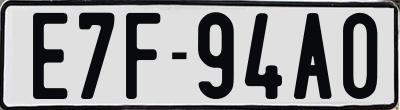0: (340, 12, 380, 102)
4: (245, 13, 288, 105)
7: (79, 12, 117, 104)
9: (198, 12, 237, 101)
A: (291, 13, 332, 100)
E: (33, 11, 72, 98)
F: (125, 12, 159, 100)
